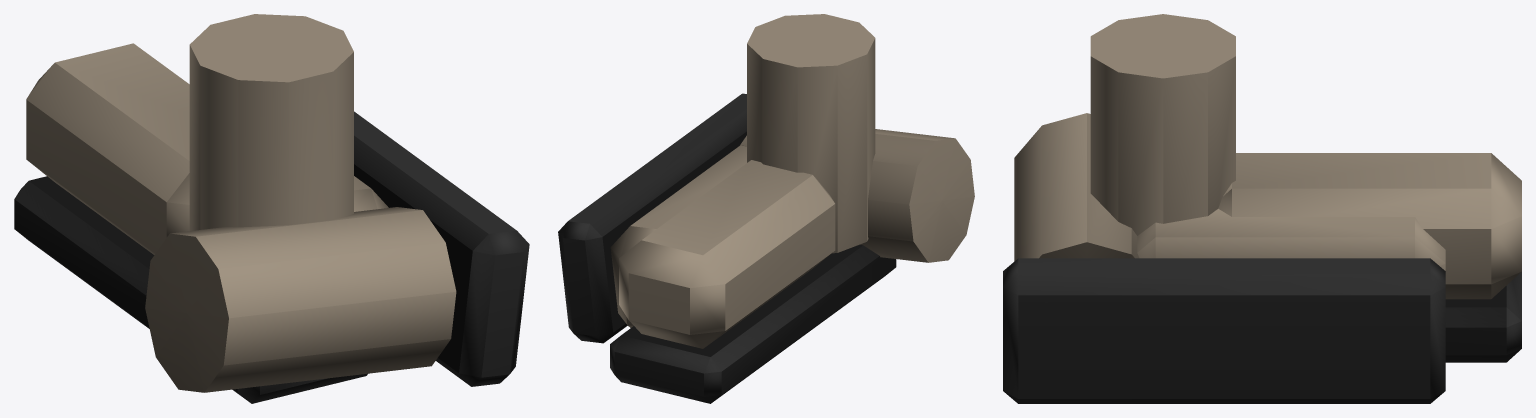
File: boots.glb
The picture shows the model from 3 angles, left to right: view 1: azimuth 30°, elevation 25°; view 2: azimuth 150°, elevation 25°; view 3: azimuth 270°, elevation 25°; orthographic projection. The views are drawn at different scales.
Parts seen in each view (by area): view 1: static; view 2: static; view 3: static.
Part boxes in pixels (bbox=[...]): static: bbox=[14, 14, 529, 403]; static: bbox=[558, 14, 974, 403]; static: bbox=[1003, 14, 1521, 403].
Bounding box in the file's own units: 0.2193 × 0.21 × 0.34.
